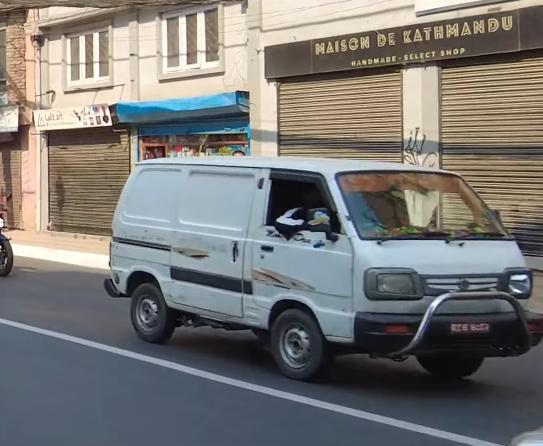van: (99, 147, 543, 401)
